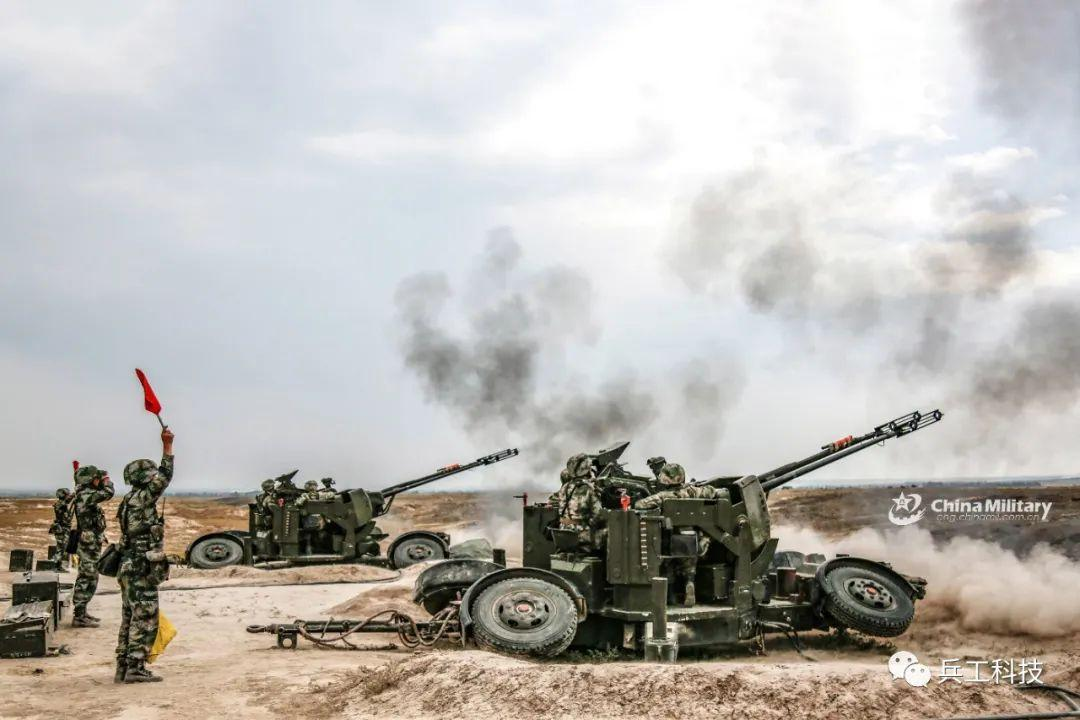MIL_SPG: (413, 412, 941, 658), (186, 449, 517, 568)
